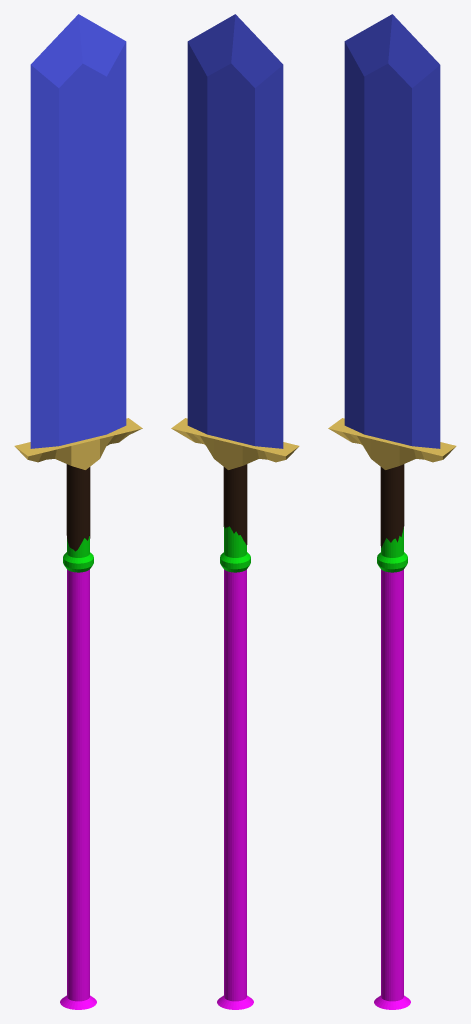
File: Weapen Set 1.fbx
3 renders of one model, left to right at view 1: azimuth 30°, elevation 25°; view 2: azimuth 150°, elevation 25°; view 3: azimuth 330°, elevation 25°, orthographic.
Visible parts, largest first — view 1: Great Sword, Spear, Sword Handle, Broad Sword; view 2: Great Sword, Spear, Sword Handle, Broad Sword; view 3: Great Sword, Spear, Sword Handle, Broad Sword.
Boxes of the visible parts, x1,y1,x2,y2 form: Great Sword: [30, 14, 126, 448]; Spear: [60, 569, 96, 1009]; Sword Handle: [14, 418, 142, 551]; Broad Sword: [63, 536, 93, 572]; Great Sword: [187, 14, 283, 448]; Spear: [217, 569, 253, 1009]; Sword Handle: [171, 418, 299, 545]; Broad Sword: [220, 526, 250, 572]; Great Sword: [344, 14, 440, 448]; Spear: [374, 569, 410, 1009]; Sword Handle: [328, 418, 456, 547]; Broad Sword: [377, 527, 407, 572].
Size of the model in its own units: 1122 by 9311 by 313.
